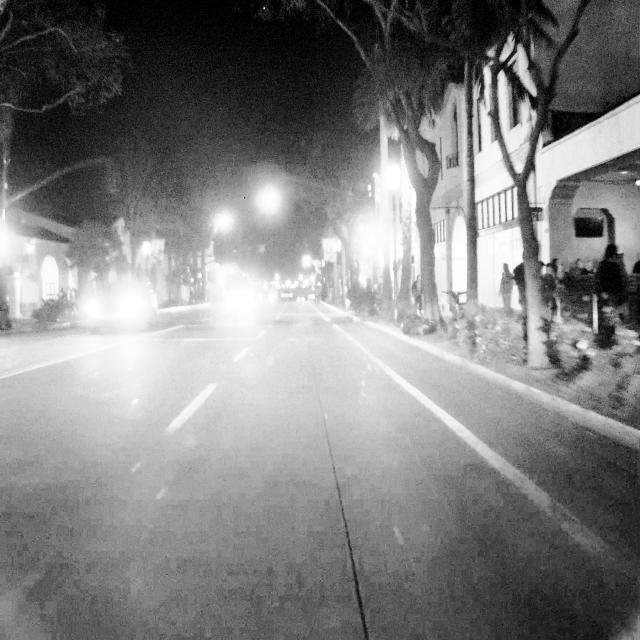Tree: (489, 0, 572, 383)
